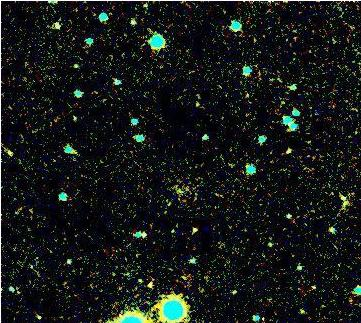star: (179, 215, 209, 245)
